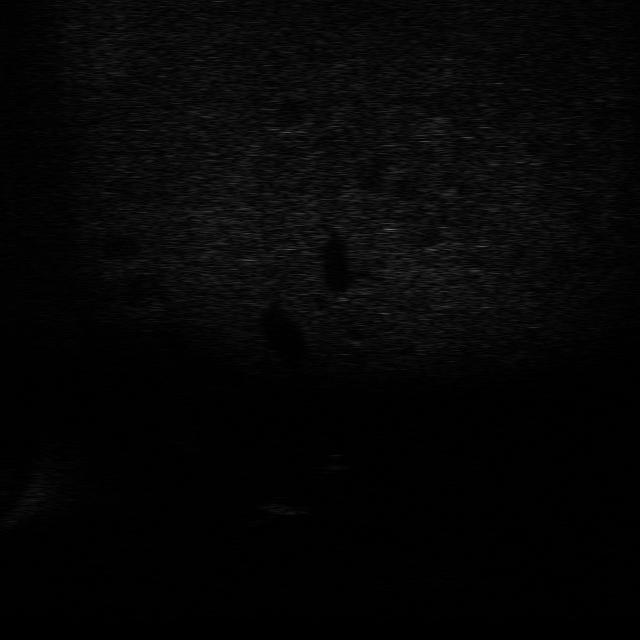ball: (312, 445, 360, 479)
square cage: (245, 489, 315, 522)
